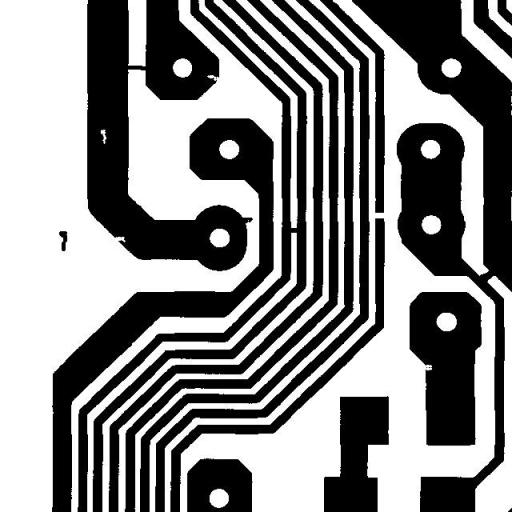copper: (52, 224, 74, 258)
mousebite: (199, 67, 229, 88), (106, 228, 132, 250), (413, 356, 439, 378)
open: (366, 204, 398, 226)
pin-hole: (92, 122, 114, 151)
short: (470, 261, 508, 291), (115, 58, 157, 78), (282, 220, 310, 240)
spur: (233, 210, 260, 230)
